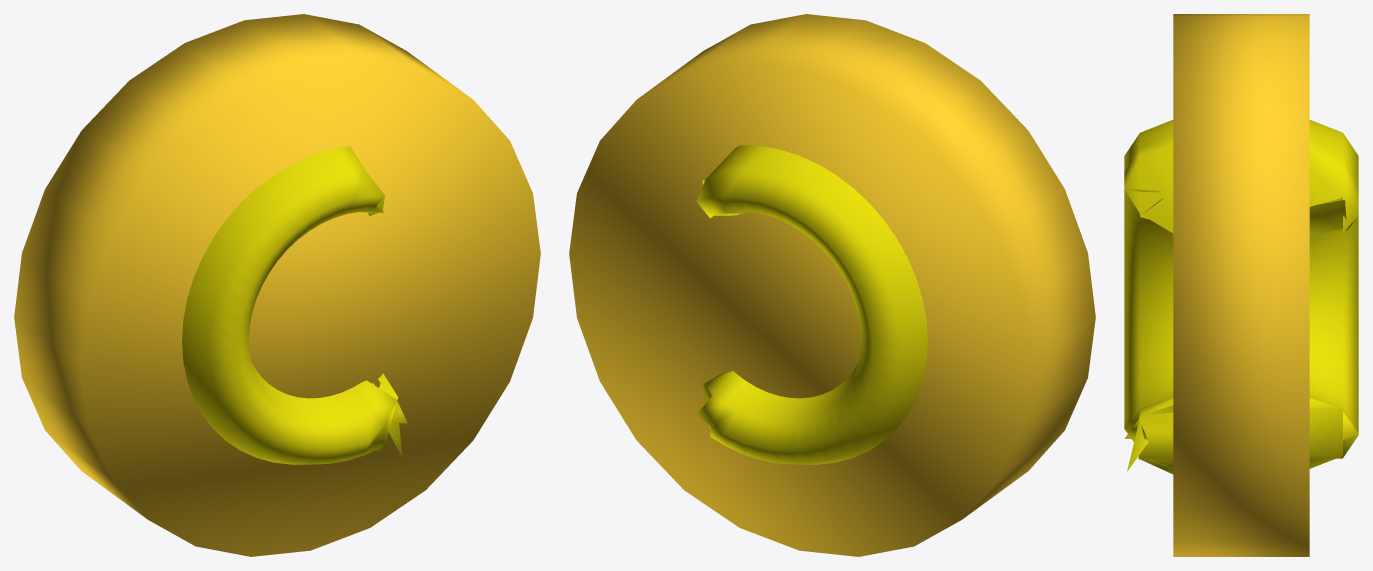
Rendered from COIN.fbx.
3 views of the same model, side by side, from view 1: azimuth 30°, elevation 25°; view 2: azimuth 150°, elevation 25°; view 3: azimuth 270°, elevation 25° (orthographic). The views are drawn at different scales.
Visible parts, largest first — view 1: Cylinder, Torus; view 2: Cylinder, Torus; view 3: Cylinder, Torus.
Part boxes in pixels (left/top/right/bottom): Cylinder: left=14, top=14, right=540, bottom=556; Torus: left=182, top=146, right=407, bottom=464; Cylinder: left=569, top=14, right=1095, bottom=556; Torus: left=696, top=145, right=927, bottom=464; Cylinder: left=1173, top=14, right=1309, bottom=556; Torus: left=1124, top=120, right=1358, bottom=474.
Size of the model in its own units: 2 by 2 by 0.8606.
